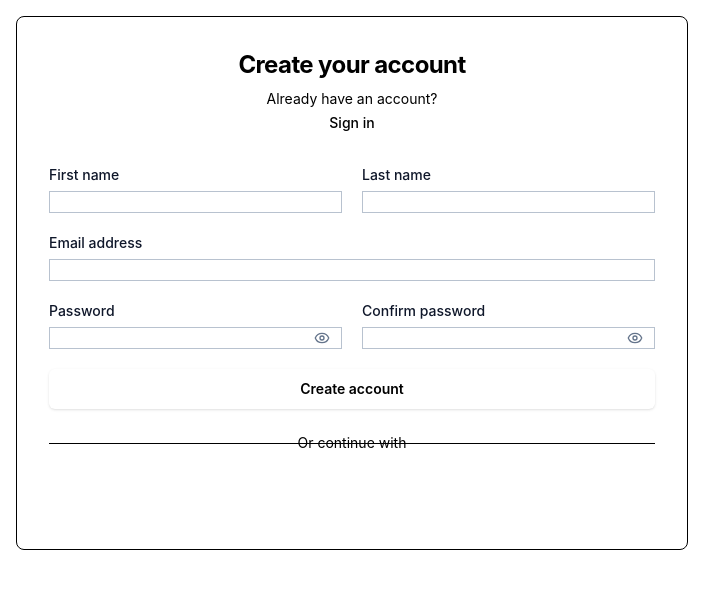
Test: AccountRegisterPage › shows email-exists message with login link on 409 response
This screenshot has width=705, height=607.
Type "Jane" into the field labelled "First name" at (196, 202), box x1=49 y1=191 x2=342 y2=213
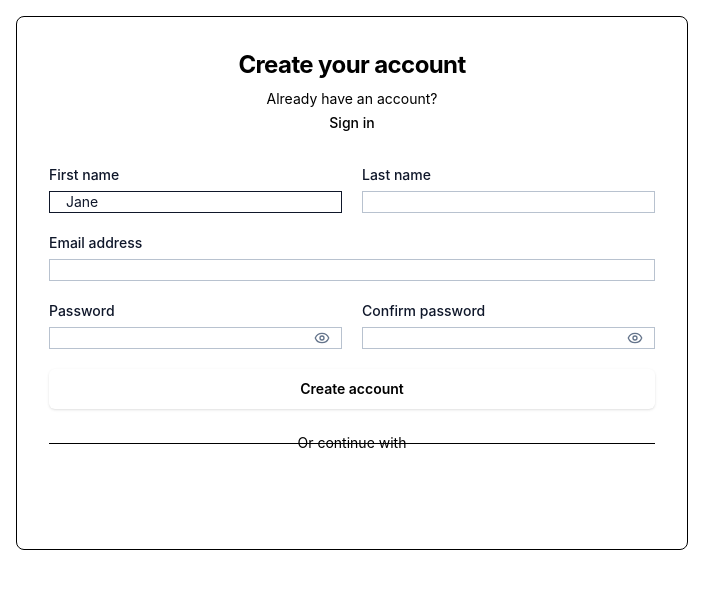
Type "Doe" into the field labelled "Last name" at (508, 202), box x1=362 y1=191 x2=655 y2=213
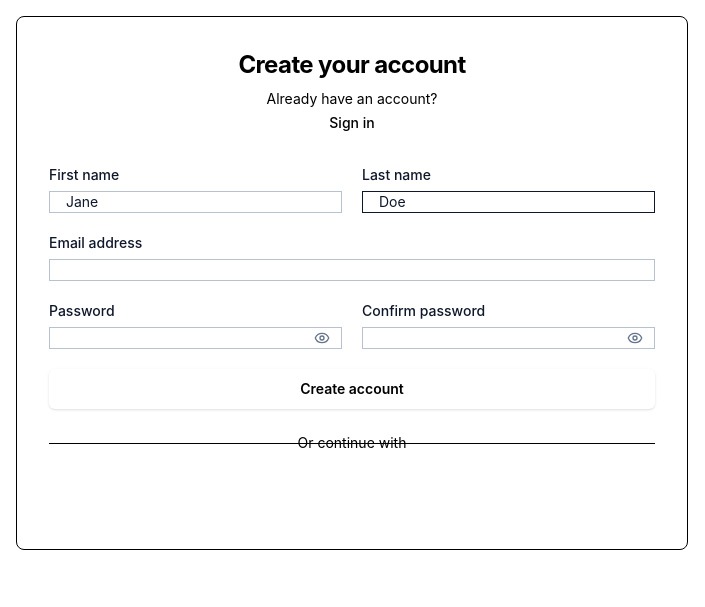
Type "existing@example.com" into the field labelled "Email address" at (352, 270), box x1=49 y1=259 x2=655 y2=281
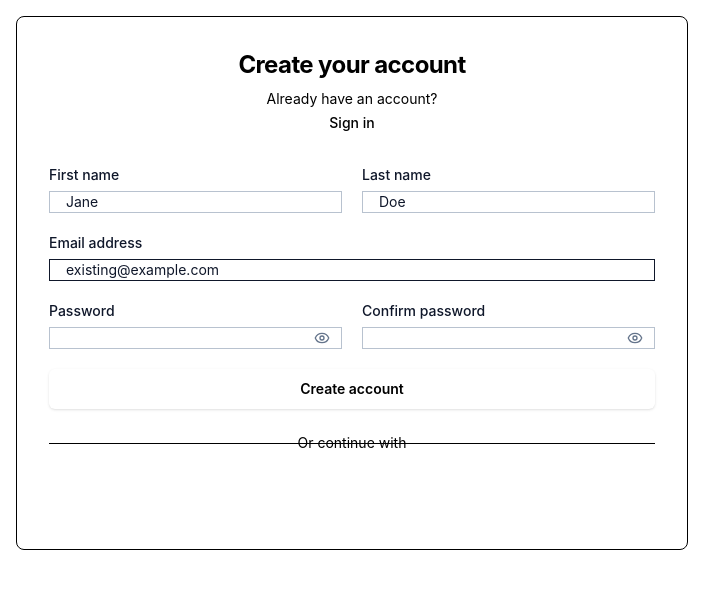
Type "password123" into the password field labelled "Password" at (196, 338), box x1=49 y1=327 x2=342 y2=349
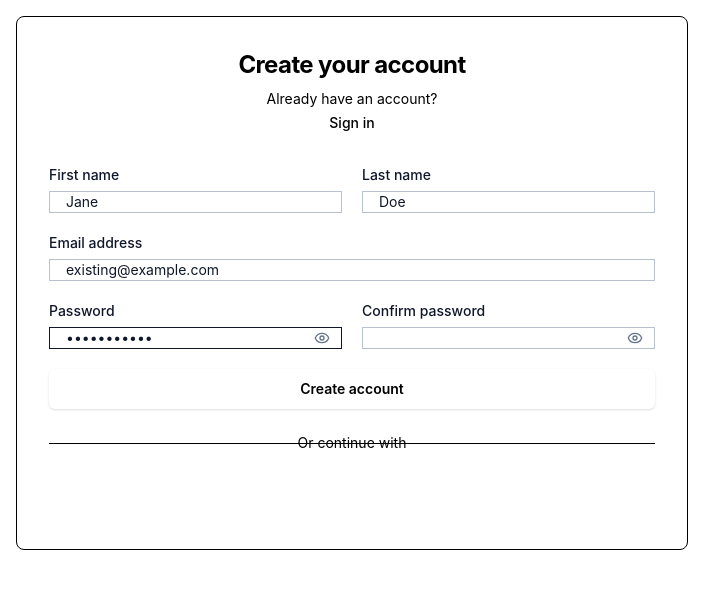
Type "password123" into the password field labelled "Confirm password" at (508, 338), box x1=362 y1=327 x2=655 y2=349
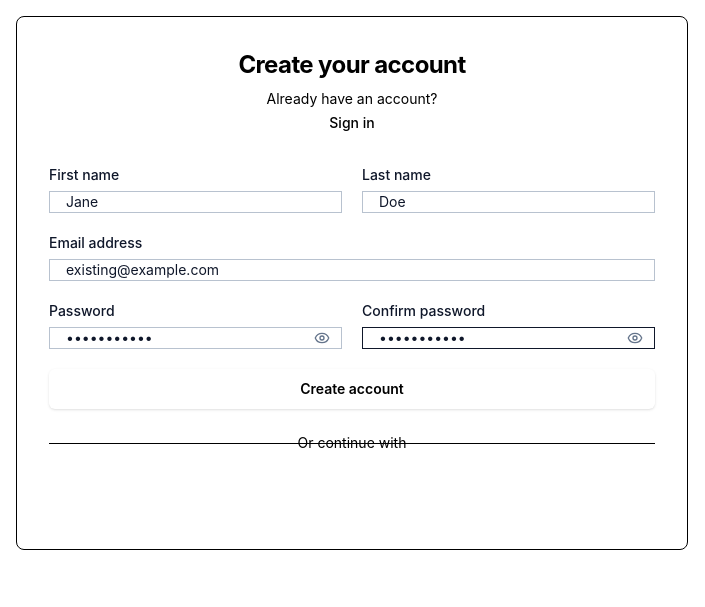
Click the button "Create account" at (352, 389), box x1=49 y1=369 x2=655 y2=409
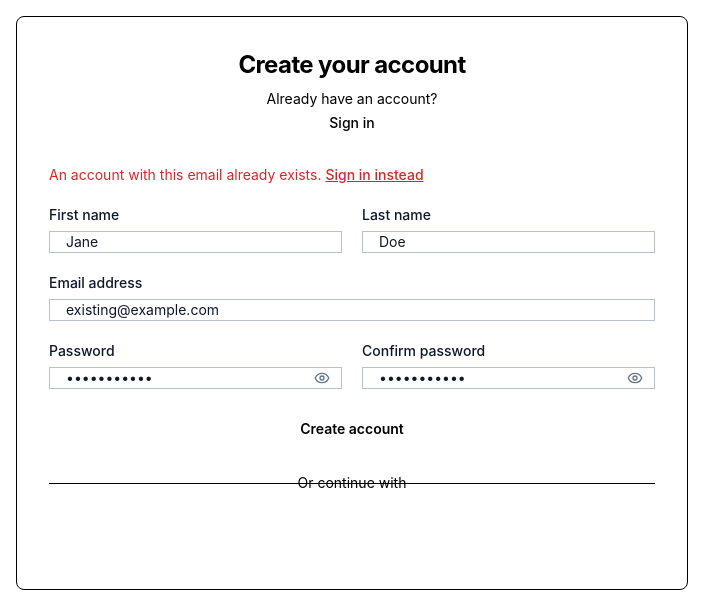
Result: the message shows "An account with this email already exists." at x1=49 y1=166 x2=322 y2=183
